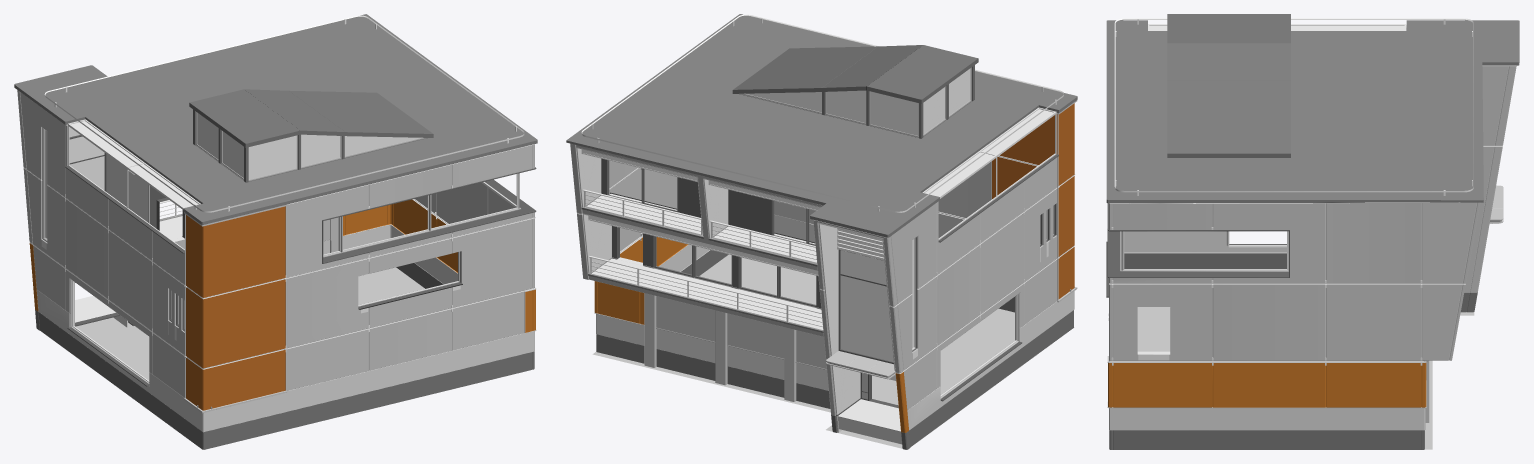
The picture shows the model from 3 angles, left to right: view 1: azimuth 30°, elevation 25°; view 2: azimuth 150°, elevation 25°; view 3: azimuth 270°, elevation 25°; orthographic projection. The views are drawn at different scales.
Visible parts, largest first — view 1: SM_H_Building_FutureTech_Dormitory_02_ExterWall_01; view 2: SM_H_Building_FutureTech_Dormitory_02_ExterWall_01; view 3: SM_H_Building_FutureTech_Dormitory_02_ExterWall_01.
Boxes of the visible parts, x1=… form: SM_H_Building_FutureTech_Dormitory_02_ExterWall_01: x1=14, y1=14, x2=537, y2=449; SM_H_Building_FutureTech_Dormitory_02_ExterWall_01: x1=566, y1=14, x2=1077, y2=449; SM_H_Building_FutureTech_Dormitory_02_ExterWall_01: x1=1106, y1=14, x2=1519, y2=449.
Bounding box in the file's own units: 728 × 750 × 575.
